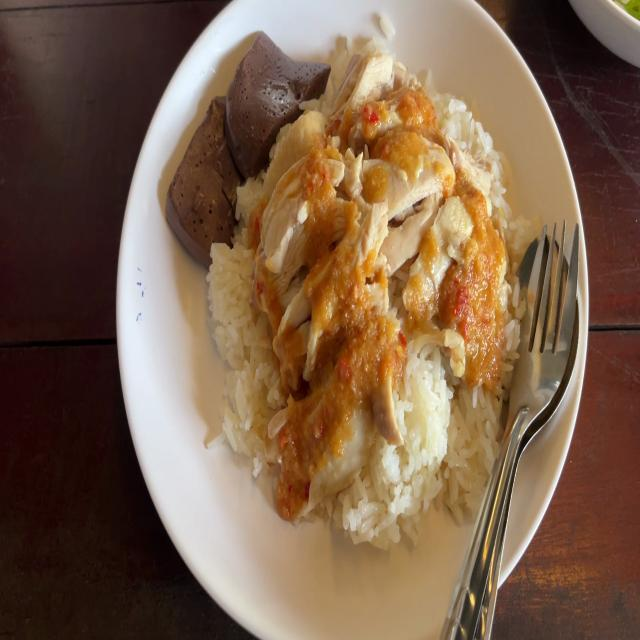chicken_rice: (269, 108, 499, 474)
noodle: (166, 90, 248, 254), (230, 30, 312, 154)
